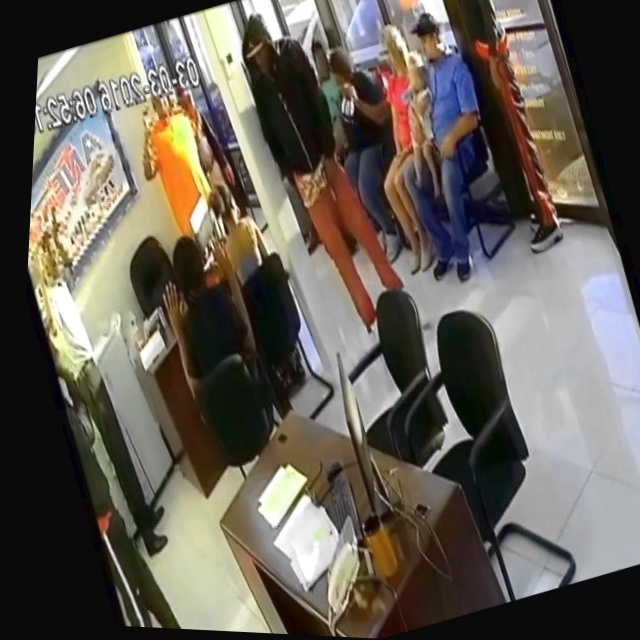gun: (314, 152, 350, 219)
